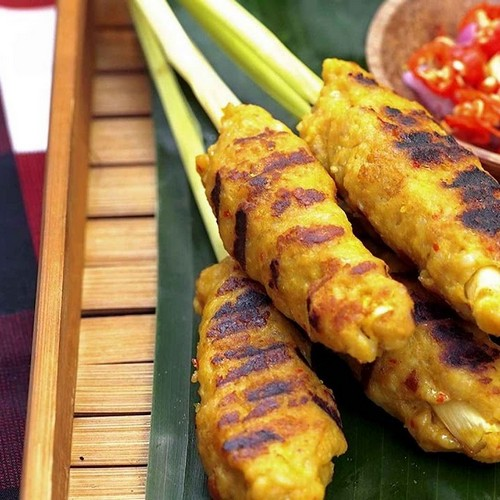sate languan: (191, 94, 420, 360), (294, 53, 500, 325), (186, 247, 336, 500)
